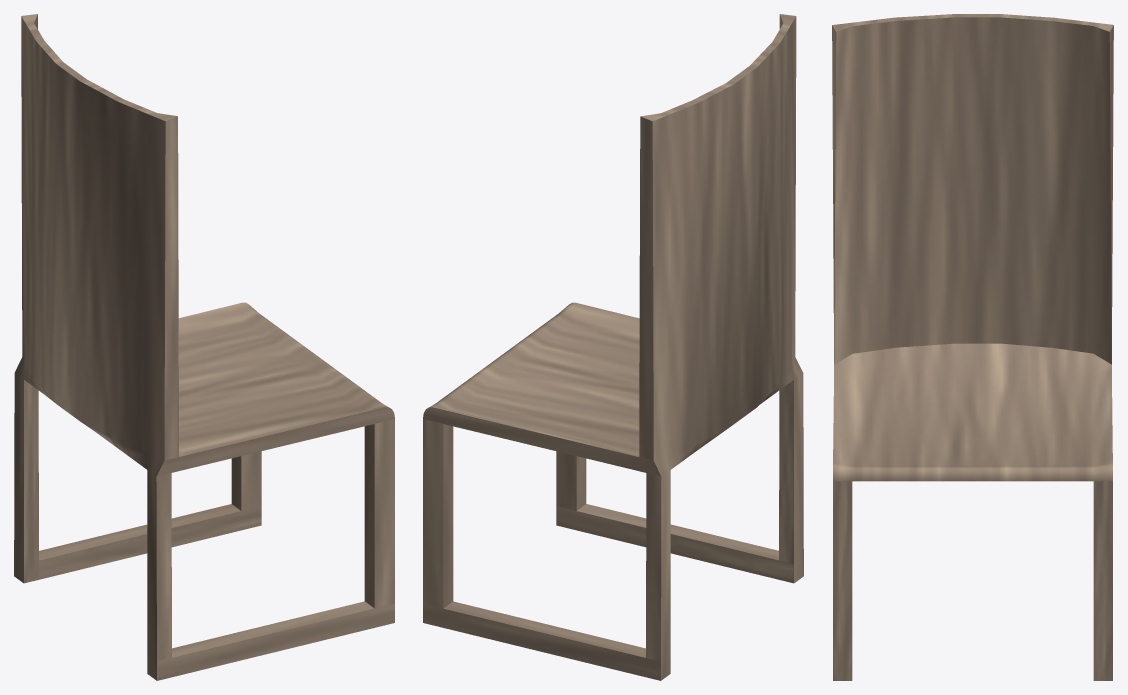
The model's file is Chair 2.fbx.
3 views of the same model, side by side, from view 1: azimuth 30°, elevation 25°; view 2: azimuth 150°, elevation 25°; view 3: azimuth 270°, elevation 25° (orthographic). The views are drawn at different scales.
Parts seen in each view (by area): view 1: Chair_2_1; view 2: Chair_2_1; view 3: Chair_2_1.
Boxes of the visible parts, x1,y1,x2,y2 form: Chair_2_1: (14, 14, 394, 680); Chair_2_1: (423, 14, 803, 680); Chair_2_1: (832, 14, 1113, 680).
Bounding box in the file's own units: 80.73 × 170 × 79.57.
Materials: 1 (1 with a texture image).
